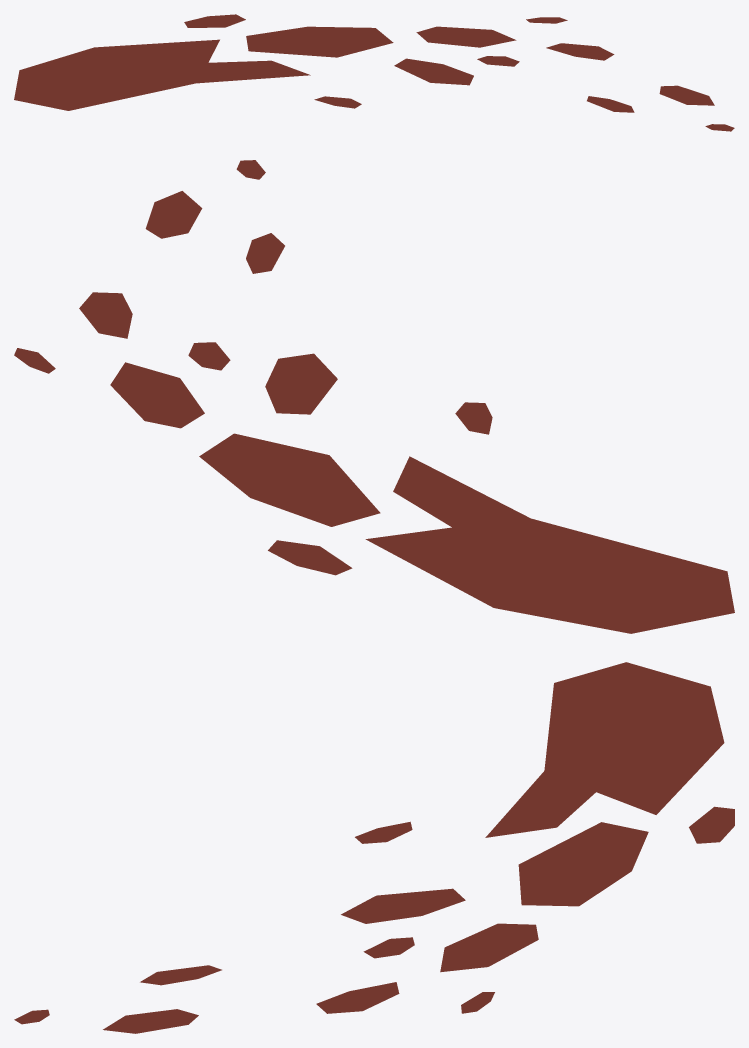
The model's file is SD_Prop_BloodSplat_04.fbx.
3 views of the same model, one above another, from view 1: azimuth 30°, elevation 25°; view 2: azimuth 150°, elevation 25°; view 3: azimuth 270°, elevation 25° (orthographic). The views are drawn at different scales.
Parts seen in each view (by area): view 1: SD_Prop_BloodSplat_04; view 2: SD_Prop_BloodSplat_04; view 3: SD_Prop_BloodSplat_04.
Part boxes in pixels (x1,y1,x2,y2): SD_Prop_BloodSplat_04: (14,14,734,131); SD_Prop_BloodSplat_04: (14,160,734,633); SD_Prop_BloodSplat_04: (14,662,734,1033).
Bounding box in the file's own units: 0.8979 × 0.000299 × 0.7364.
